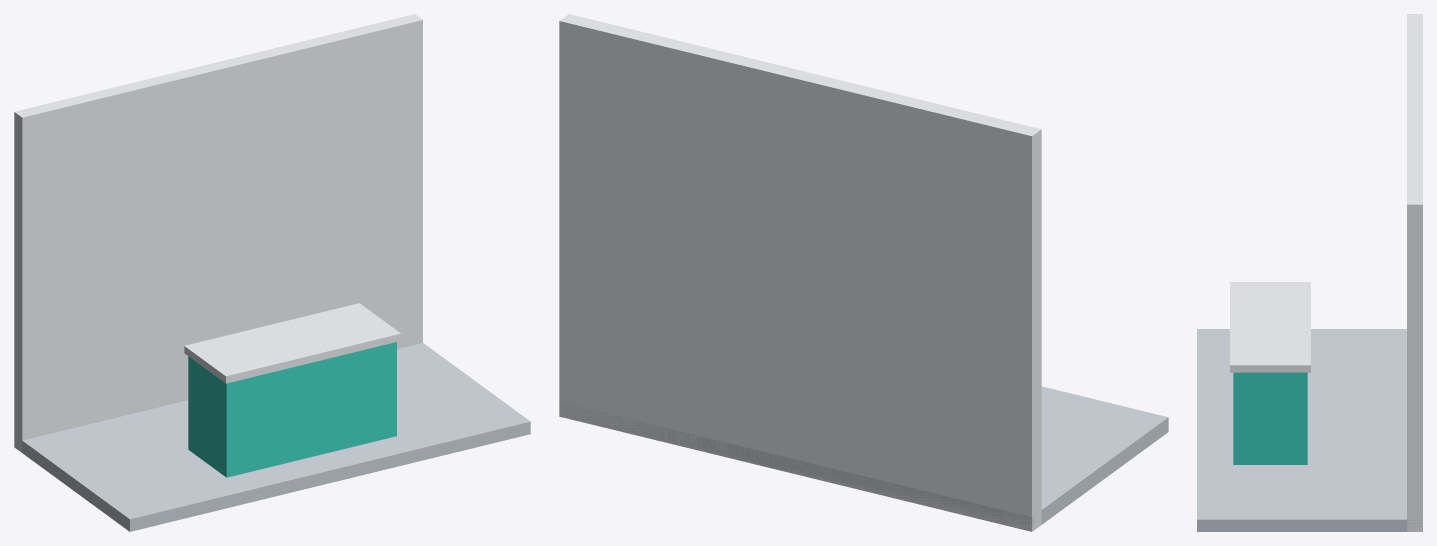
The picture shows the model from 3 angles, left to right: view 1: azimuth 30°, elevation 25°; view 2: azimuth 150°, elevation 25°; view 3: azimuth 270°, elevation 25°; orthographic projection. The views are drawn at different scales.
Visible parts, largest first — view 1: Exhibition Booth Concept; view 2: Exhibition Booth Concept; view 3: Exhibition Booth Concept.
Boxes of the visible parts, <box> form: Exhibition Booth Concept: <box>14,14,530,531</box>; Exhibition Booth Concept: <box>559,14,1168,531</box>; Exhibition Booth Concept: <box>1197,14,1422,531</box>.
Size of the model in its own units: 4 by 3.2 by 2.
